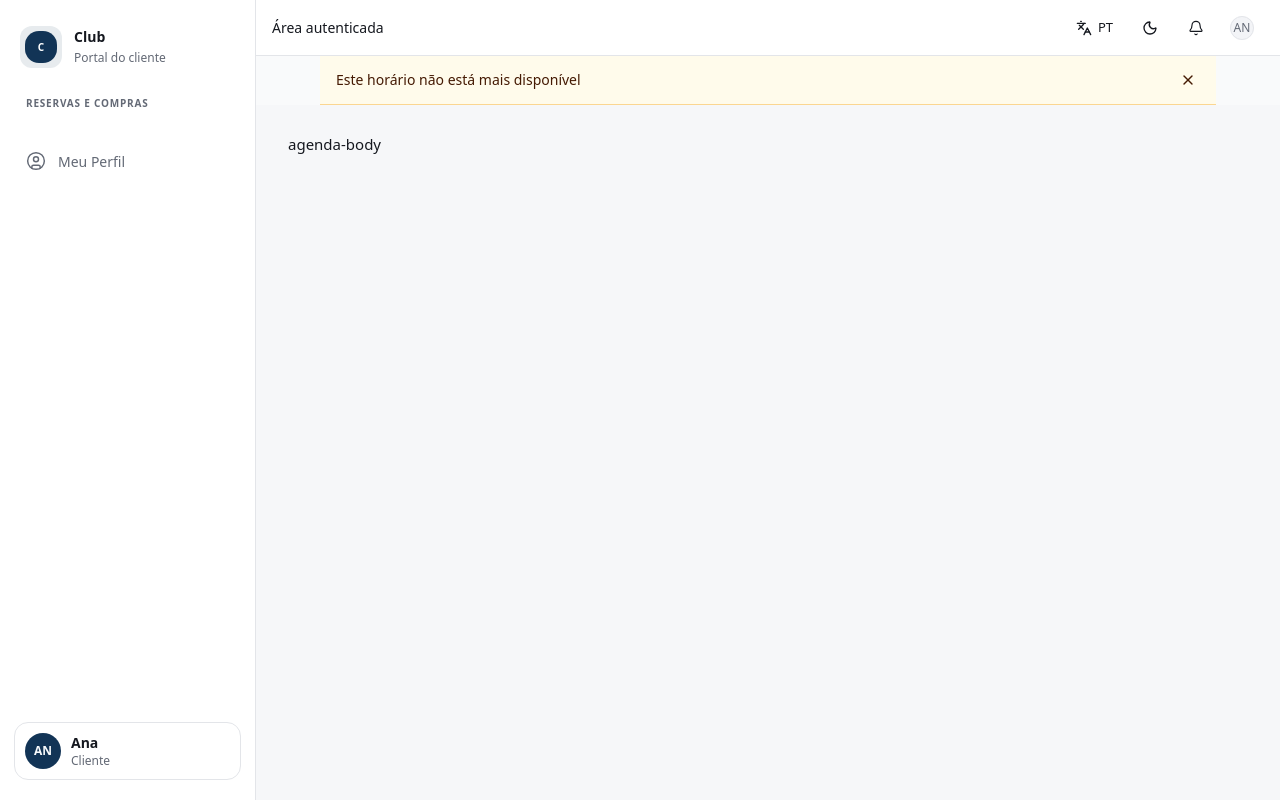
Scenario: CustomerAppLayout session tenant › keeps the unavailable selection notice across a shell remount until dismissed
Expected: the message reads "Este horário não está mais disponível", [336,70,581,89]
Click the button named "Fechar".
click(1188, 80)  # box [1176,68,1200,92]
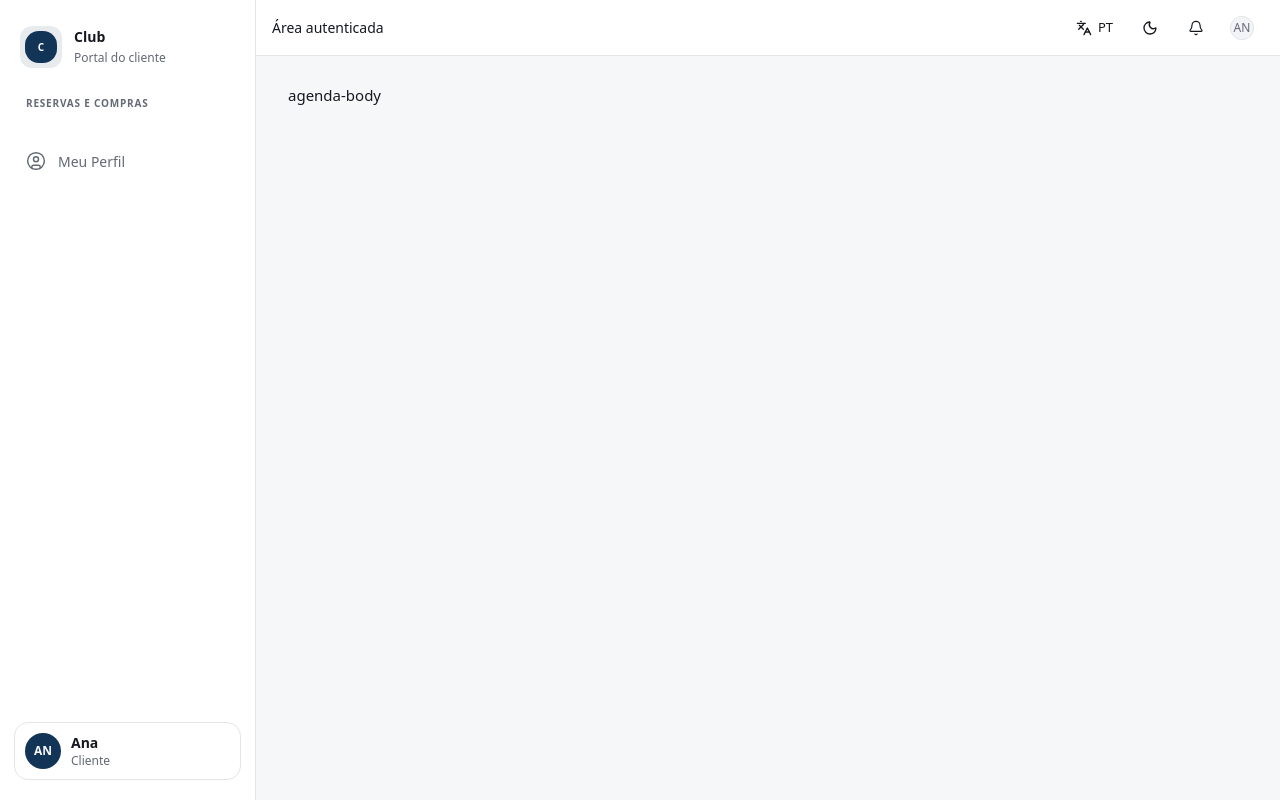
Expected: the message "Este horário não está mais disponível" is gone
